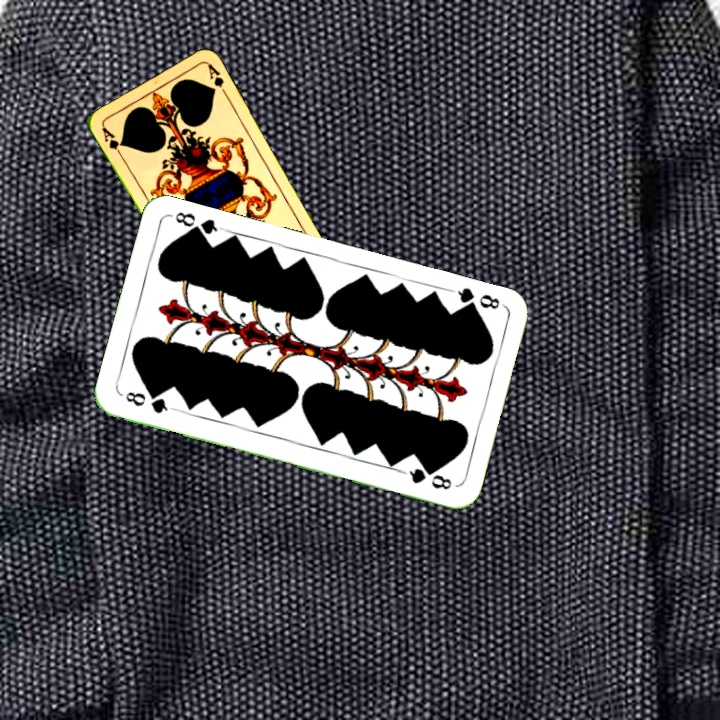G8: (447, 283, 505, 315), (121, 387, 176, 416)
GA: (97, 123, 126, 160)
